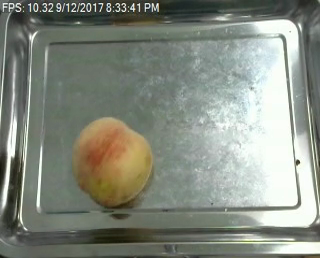Peach: (72, 116, 153, 206)
